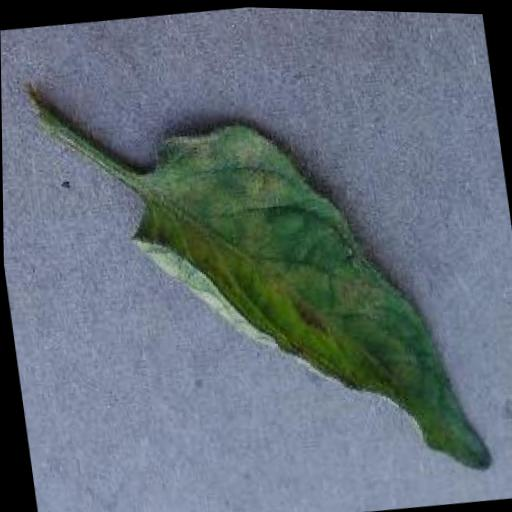Leaf Mold: (119, 90, 491, 505)
